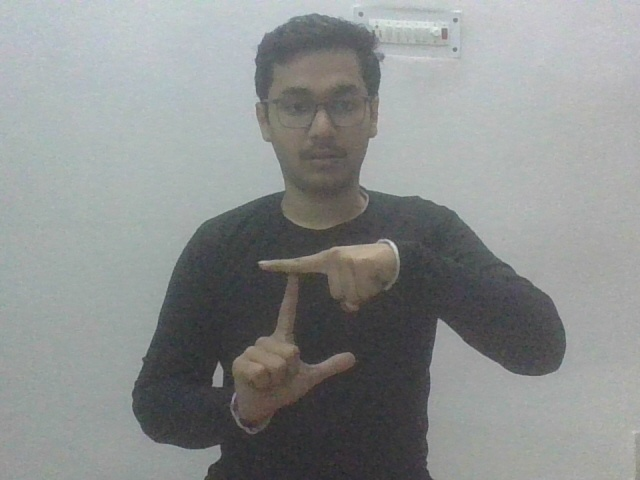J: (221, 242, 400, 424)
